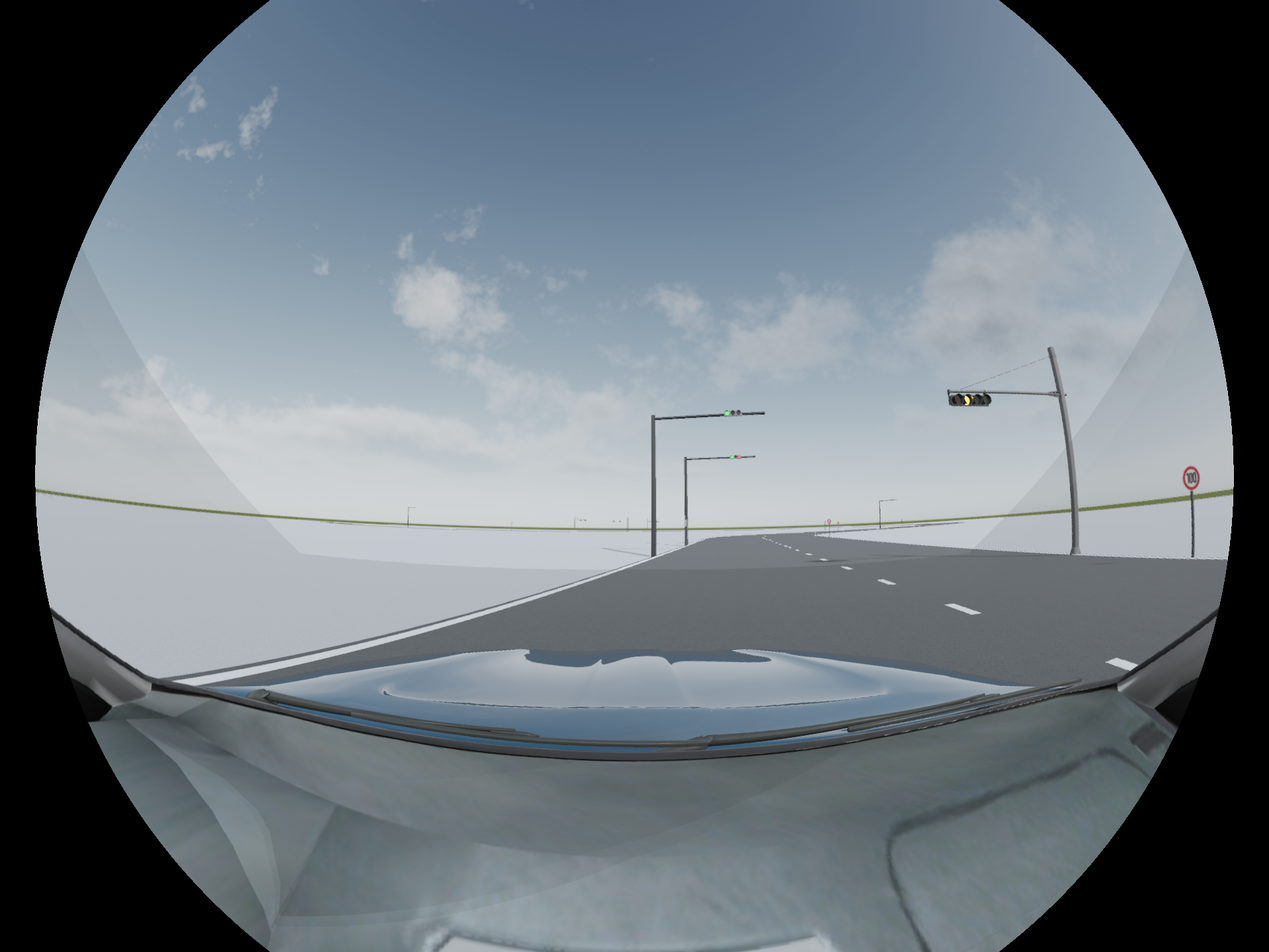Green Light: (723, 408, 743, 419), (728, 453, 743, 461)
Speed Limit 100: (1182, 465, 1202, 491)
